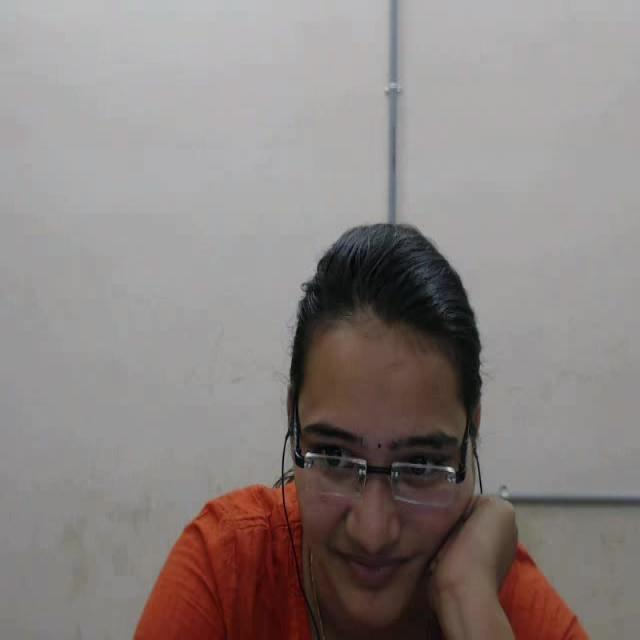Bored: (251, 191, 534, 640)
